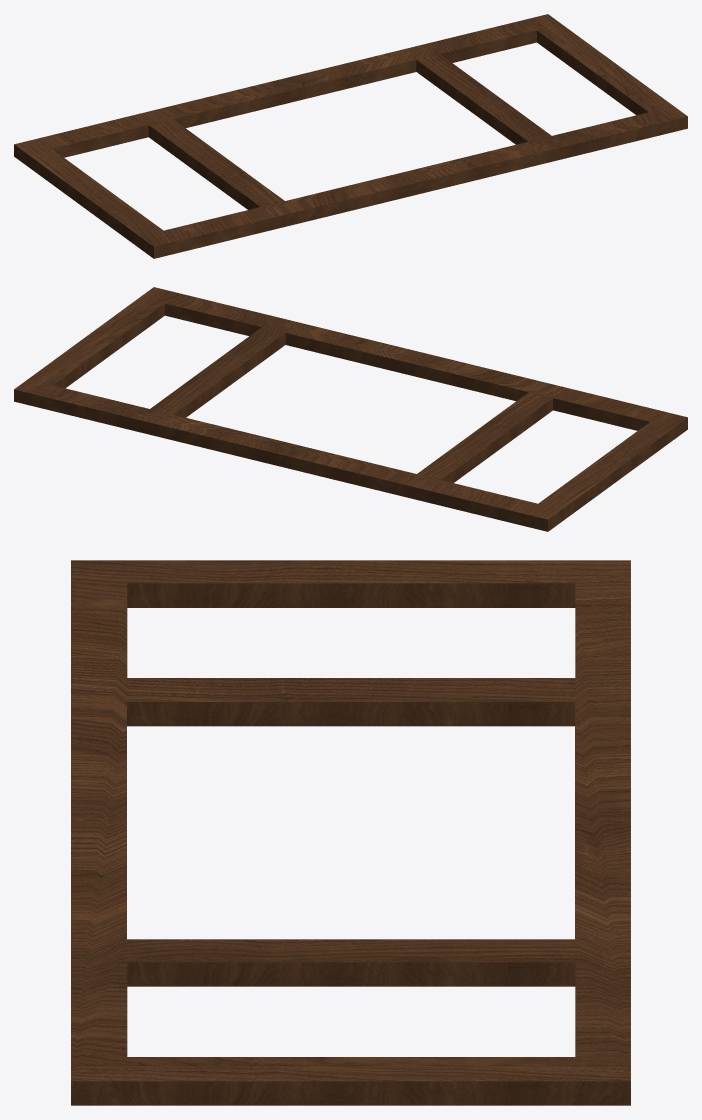
The picture shows the model from 3 angles, top to bottom: view 1: azimuth 30°, elevation 25°; view 2: azimuth 150°, elevation 25°; view 3: azimuth 270°, elevation 25°; orthographic projection. The views are drawn at different scales.
Visible parts, largest first — view 1: Box1731; view 2: Box1731; view 3: Box1731.
Boxes of the visible parts, x1,y1,x2,y2 form: Box1731: (14,14,687,258); Box1731: (14,287,687,531); Box1731: (71,560,630,1105).
Bounding box in the file's own units: 2.2 × 0.048 × 1.
Materials: 1 (1 with a texture image).
